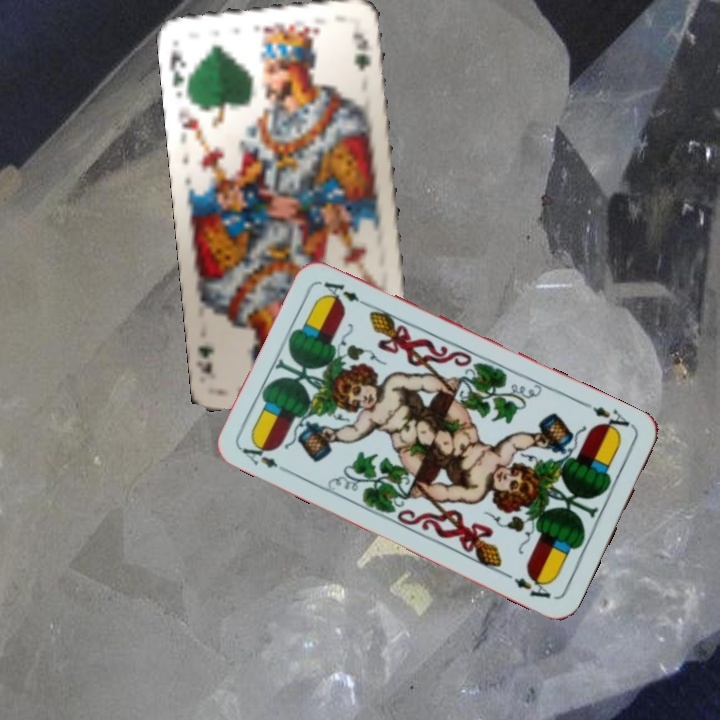EA: (238, 436, 294, 476), (581, 399, 637, 438)
GK: (165, 46, 194, 96)
